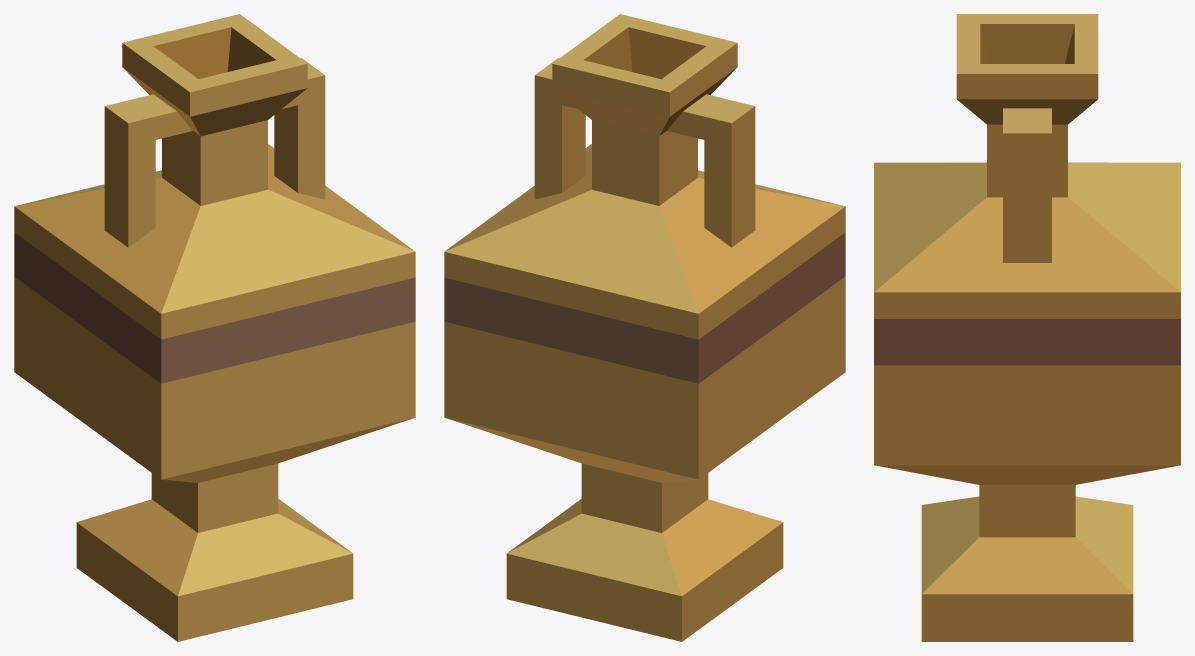
The model's file is ST_Prop_Vase_04.fbx.
The picture shows the model from 3 angles, left to right: view 1: azimuth 30°, elevation 25°; view 2: azimuth 150°, elevation 25°; view 3: azimuth 270°, elevation 25°; orthographic projection. The views are drawn at different scales.
Parts seen in each view (by area): view 1: ST_Prop_Vase_04; view 2: ST_Prop_Vase_04; view 3: ST_Prop_Vase_04.
Part boxes in pixels (bbox=[...]): ST_Prop_Vase_04: bbox=[14, 14, 415, 641]; ST_Prop_Vase_04: bbox=[444, 14, 845, 641]; ST_Prop_Vase_04: bbox=[874, 14, 1180, 641].
Size of the model in its own units: 0.7744 by 1.54 by 0.7744.
